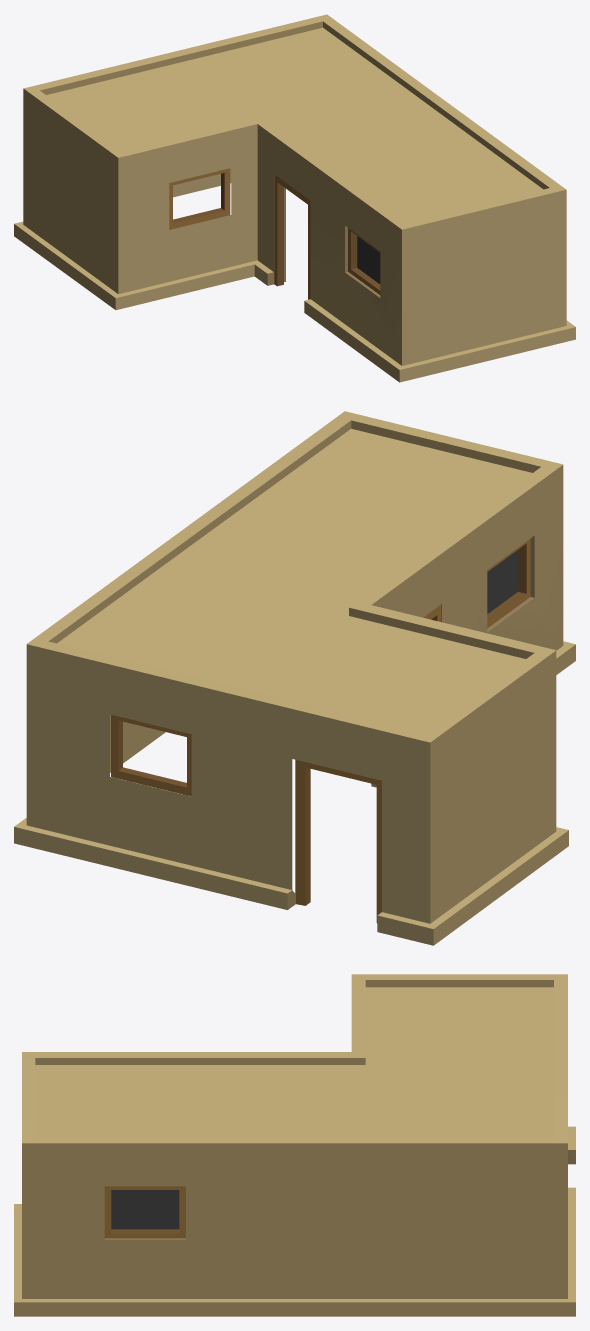
Rendered from DHouse2.fbx.
3 views of the same model, one above another, from view 1: azimuth 30°, elevation 25°; view 2: azimuth 150°, elevation 25°; view 3: azimuth 270°, elevation 25° (orthographic). The views are drawn at different scales.
Parts seen in each view (by area): view 1: MHouse3; view 2: MHouse3; view 3: MHouse3.
Boxes of the visible parts, <box> form: MHouse3: <box>14,14,575,382</box>; MHouse3: <box>14,411,575,945</box>; MHouse3: <box>14,974,575,1316</box>.
Size of the model in its own units: 2.32 by 1.05 by 3.14.
